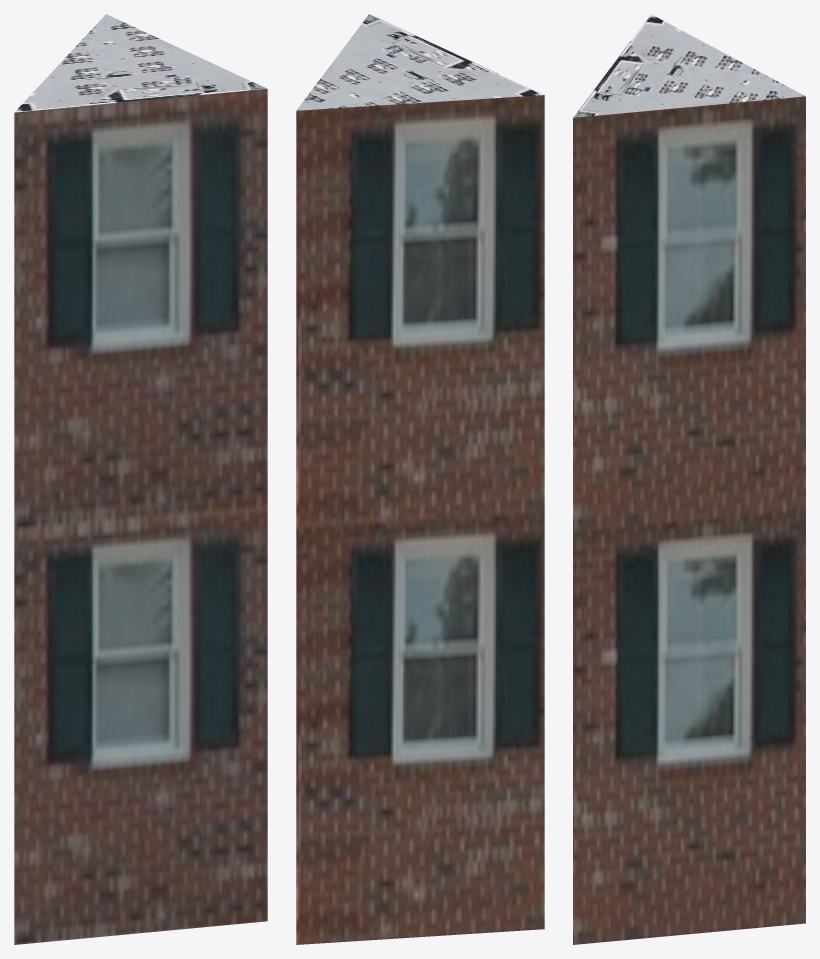
File: ResTex__4753.fbx
3 renders of one model, left to right at view 1: azimuth 30°, elevation 25°; view 2: azimuth 150°, elevation 25°; view 3: azimuth 270°, elevation 25°, orthographic.
Visible parts, largest first — view 1: CityEngineMaterial_14_m, CityEngineMaterial_8_m; view 2: CityEngineMaterial_14_m, CityEngineMaterial_8_m; view 3: CityEngineMaterial_14_m, CityEngineMaterial_8_m.
Boxes of the visible parts, x1=… form: CityEngineMaterial_14_m: x1=14, y1=89, x2=267, y2=944; CityEngineMaterial_8_m: x1=14, y1=14, x2=266, y2=112; CityEngineMaterial_14_m: x1=296, y1=95, x2=544, y2=944; CityEngineMaterial_8_m: x1=296, y1=14, x2=543, y2=110; CityEngineMaterial_14_m: x1=573, y1=96, x2=805, y2=944; CityEngineMaterial_8_m: x1=573, y1=14, x2=805, y2=117.
Bounding box in the file's own units: 1.62 × 6 × 1.53.
Materials: 2 (2 with a texture image).
